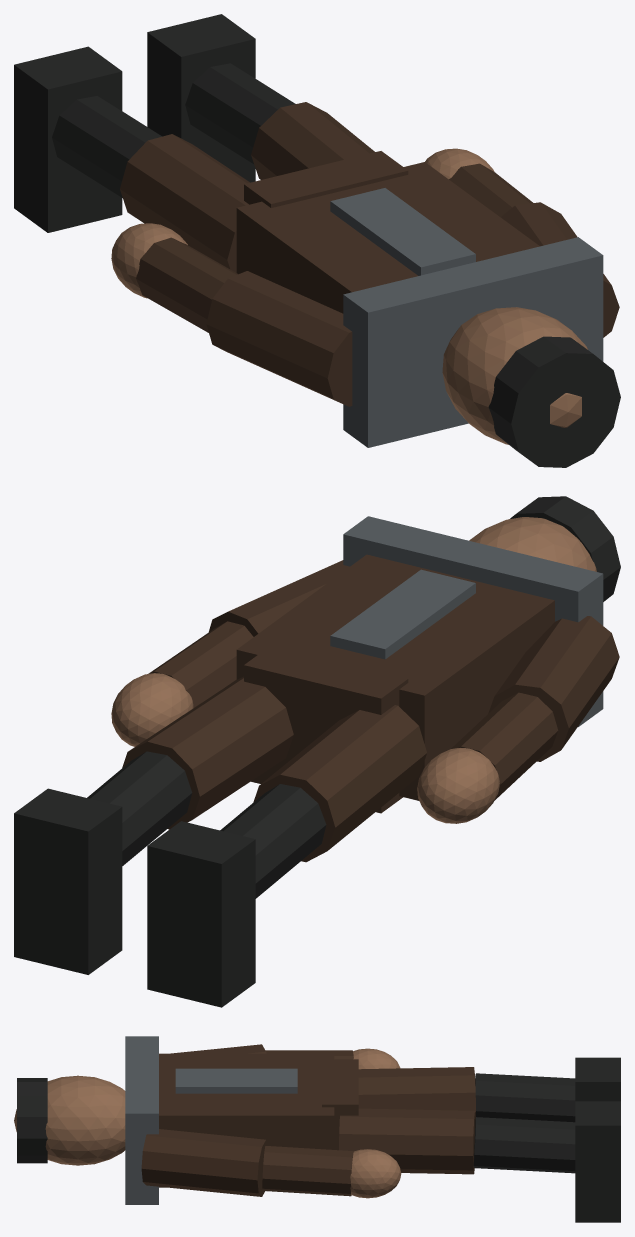
File: SM_CharacterHero_Preview.obj
3 renders of one model, top to bottom at view 1: azimuth 30°, elevation 25°; view 2: azimuth 150°, elevation 25°; view 3: azimuth 270°, elevation 25°, orthographic. The views are drawn at different scales.
Size of the model in its own units: 0.95 by 0.41 by 1.99.
